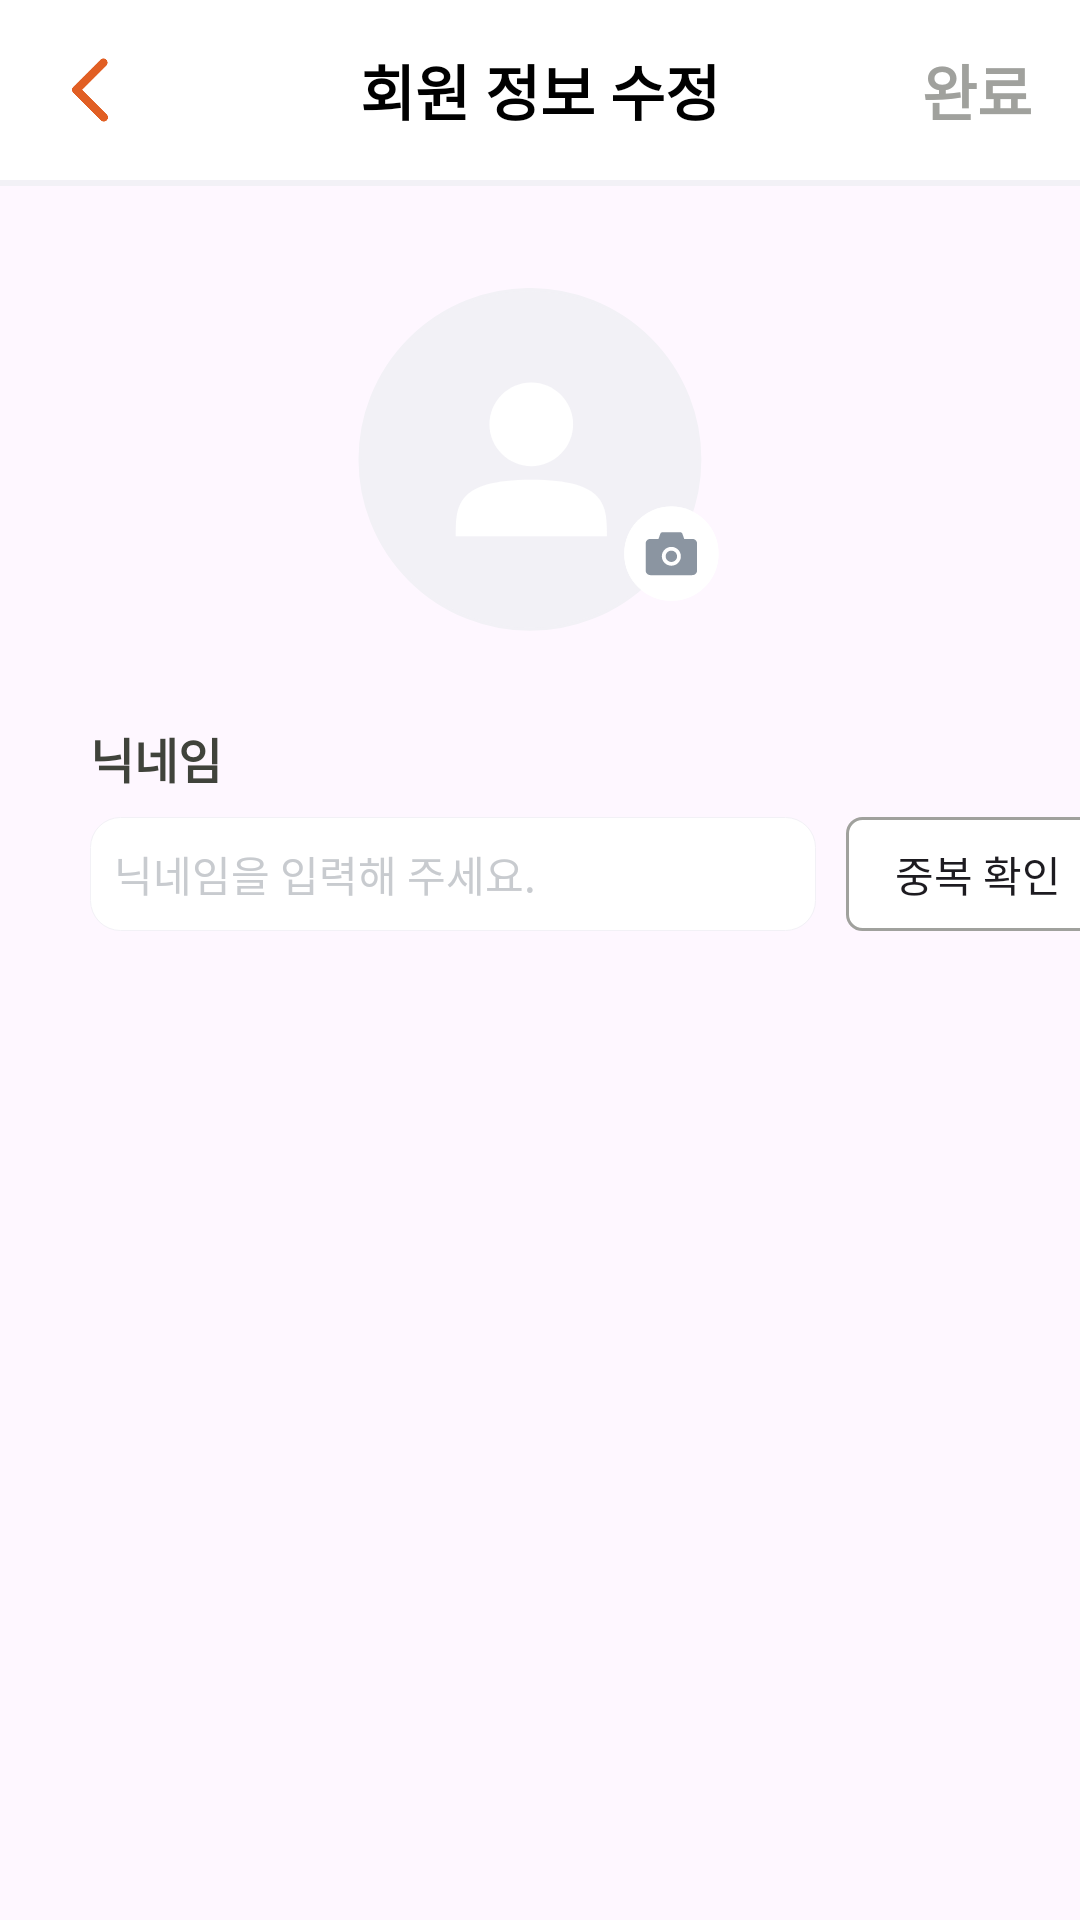

Screen size 1080w x 1920h. Icon name, then its center in pixels as (x,y):
back: (90,90)
